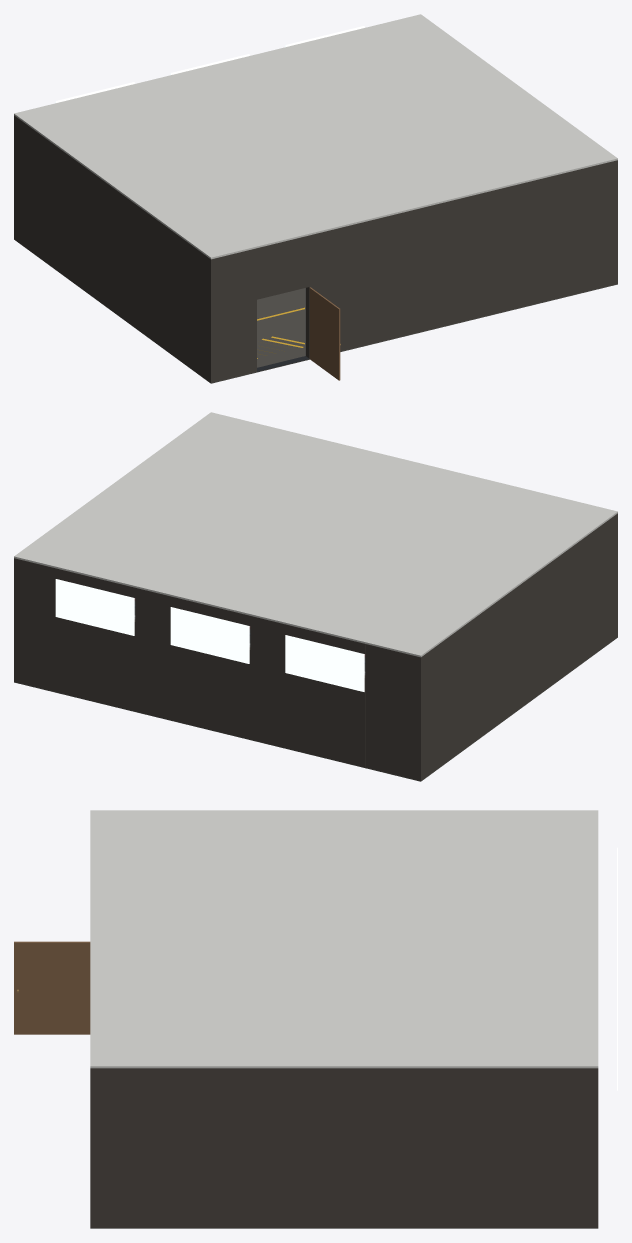
Rendered from warehouse.glb.
3 renders of one model, top to bottom at view 1: azimuth 30°, elevation 25°; view 2: azimuth 150°, elevation 25°; view 3: azimuth 270°, elevation 25°, orthographic. The views are drawn at different scales.
Parts seen in each view (by area): view 1: warehouse_room; view 2: warehouse_room; view 3: warehouse_room.
Part boxes in pixels (<box>): warehouse_room: <box>14,14,617,383</box>; warehouse_room: <box>14,412,617,781</box>; warehouse_room: <box>14,810,617,1228</box>.
Size of the model in its own units: 12.4 by 3.67 by 12.36.
